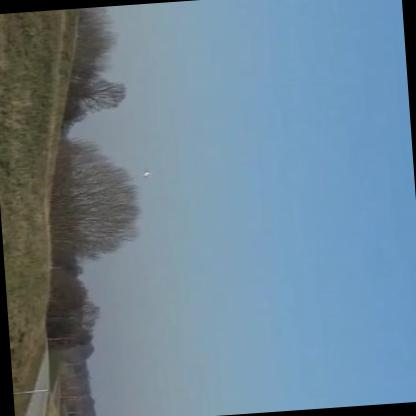plane: (140, 167, 156, 181)
